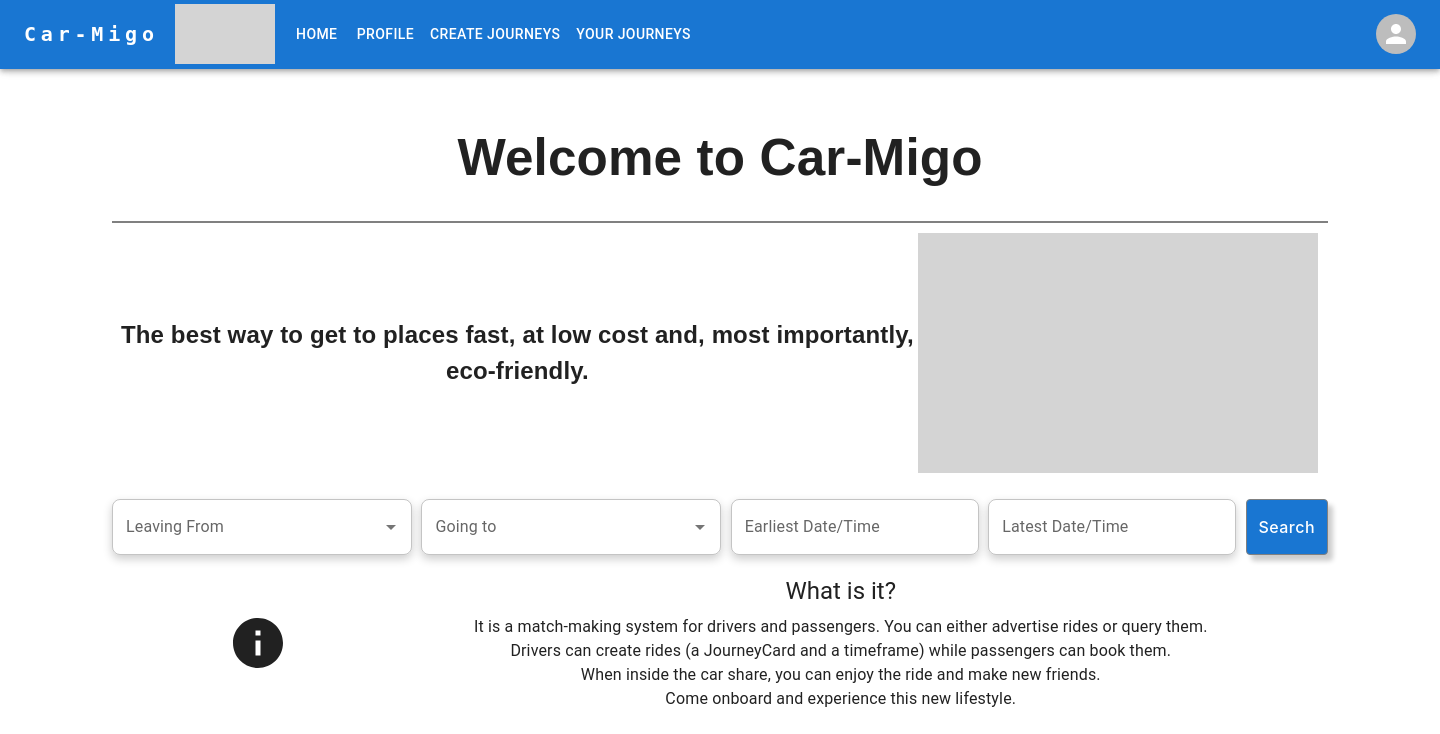
Test: Home Unit Tests › search button clicked with missing data fails validation
The image size is (1440, 734).
Click the button with test id "search-submit-button" at (1287, 527), box [1246,499,1328,555]
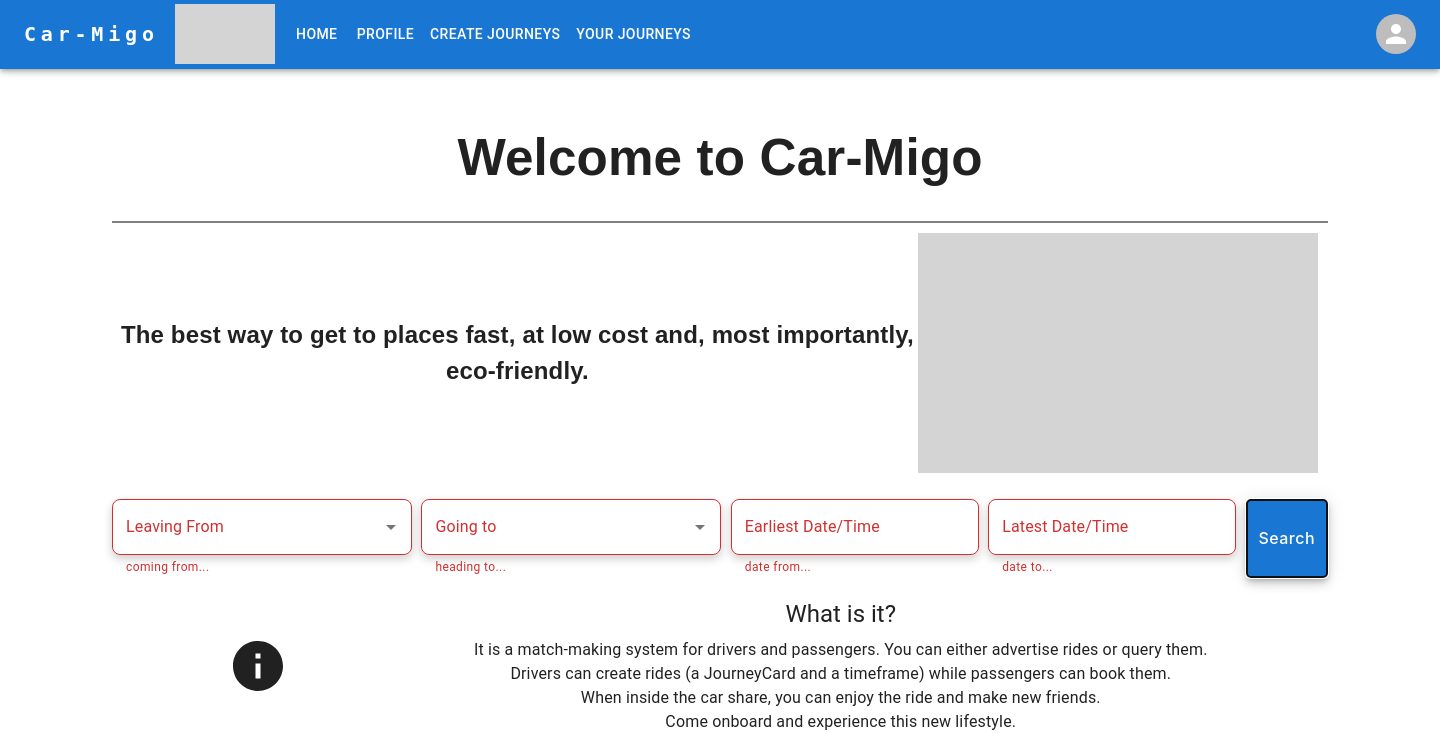
Now the text "coming from..." is shown, box [126,560,210,574]
Now the text "heading to..." is shown, box [435,560,506,574]
Now the text "date from..." is shown, box [745,560,811,574]
